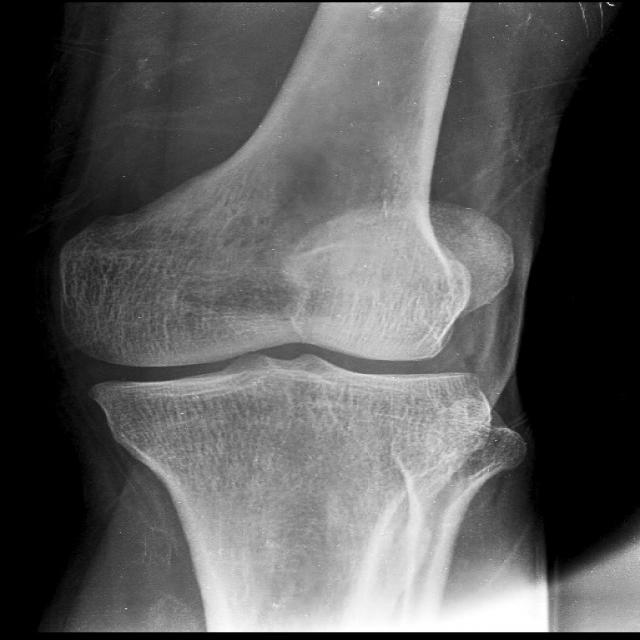osteo: (40, 214, 502, 434)
